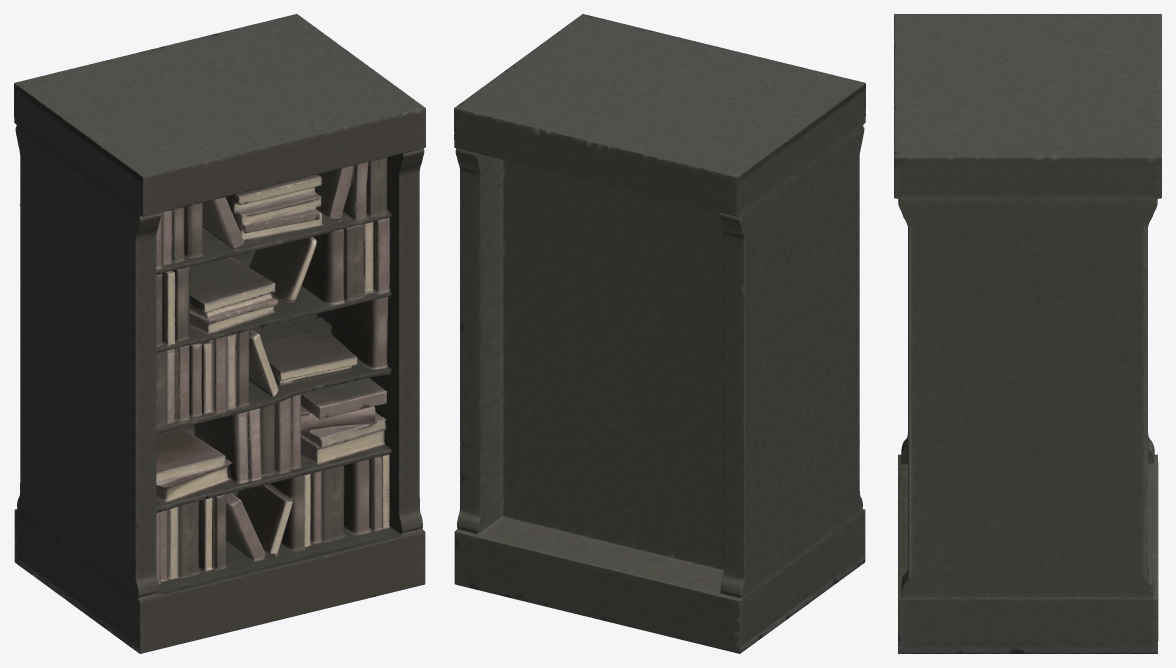
File: Bookshelf.glb
3 renders of one model, left to right at view 1: azimuth 30°, elevation 25°; view 2: azimuth 150°, elevation 25°; view 3: azimuth 270°, elevation 25°, orthographic. The views are drawn at different scales.
Size of the model in its own units: 1.19 by 1.9 by 0.9292.
Materials: 1 (1 with a texture image).
